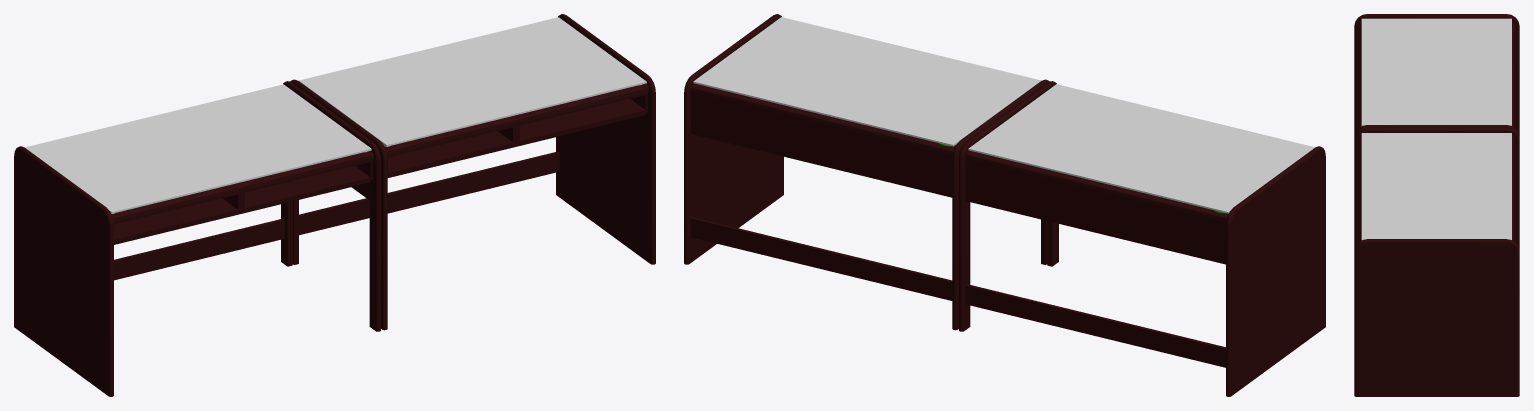
File: sm table draw house.fbx
The picture shows the model from 3 angles, left to right: view 1: azimuth 30°, elevation 25°; view 2: azimuth 150°, elevation 25°; view 3: azimuth 270°, elevation 25°; orthographic projection. The views are drawn at different scales.
Visible parts, largest first — view 1: Table 6 5; view 2: Table 6 5; view 3: Table 6 5.
Boxes of the visible parts, <box> form: Table 6 5: <box>14,14,655,396</box>; Table 6 5: <box>684,14,1325,396</box>; Table 6 5: <box>1354,14,1519,396</box>.
Bounding box in the file's own units: 311 × 100 × 95.72.
